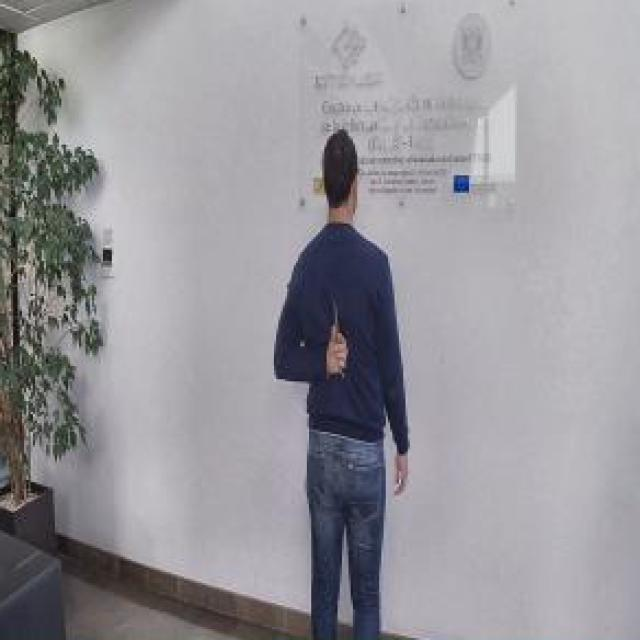knife: (331, 294, 351, 381)
